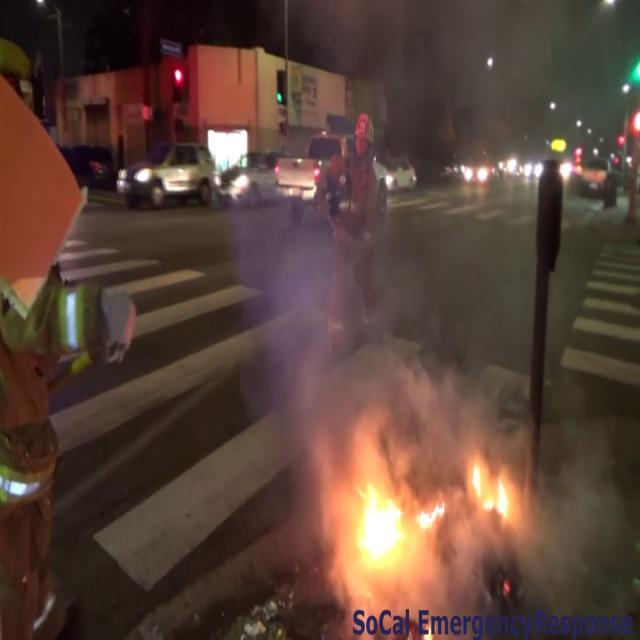Fire: (345, 476, 446, 578), (467, 453, 518, 526)
Smoke: (236, 0, 527, 475), (503, 402, 640, 620)
